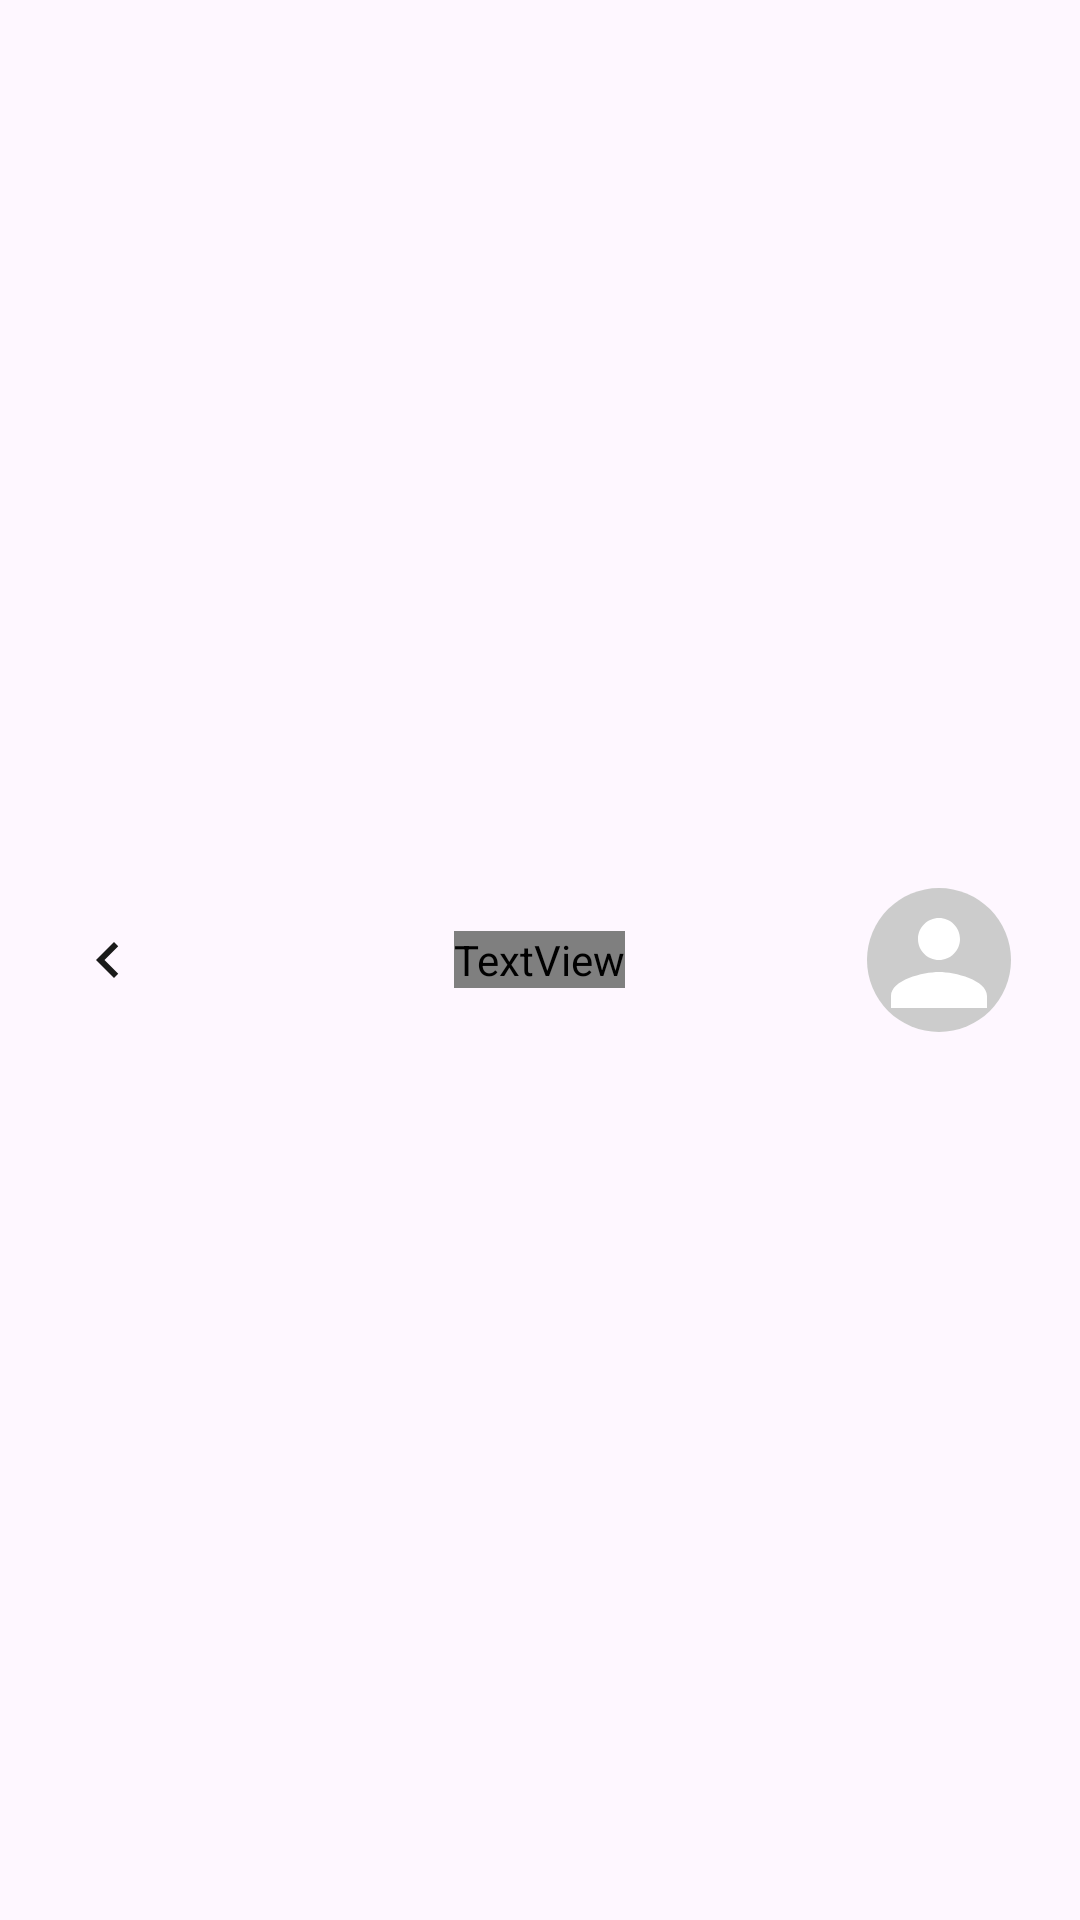

Point at icon controls on the screen. Image size 1080×1920, points as [x,y].
Voltar: [107,960]
